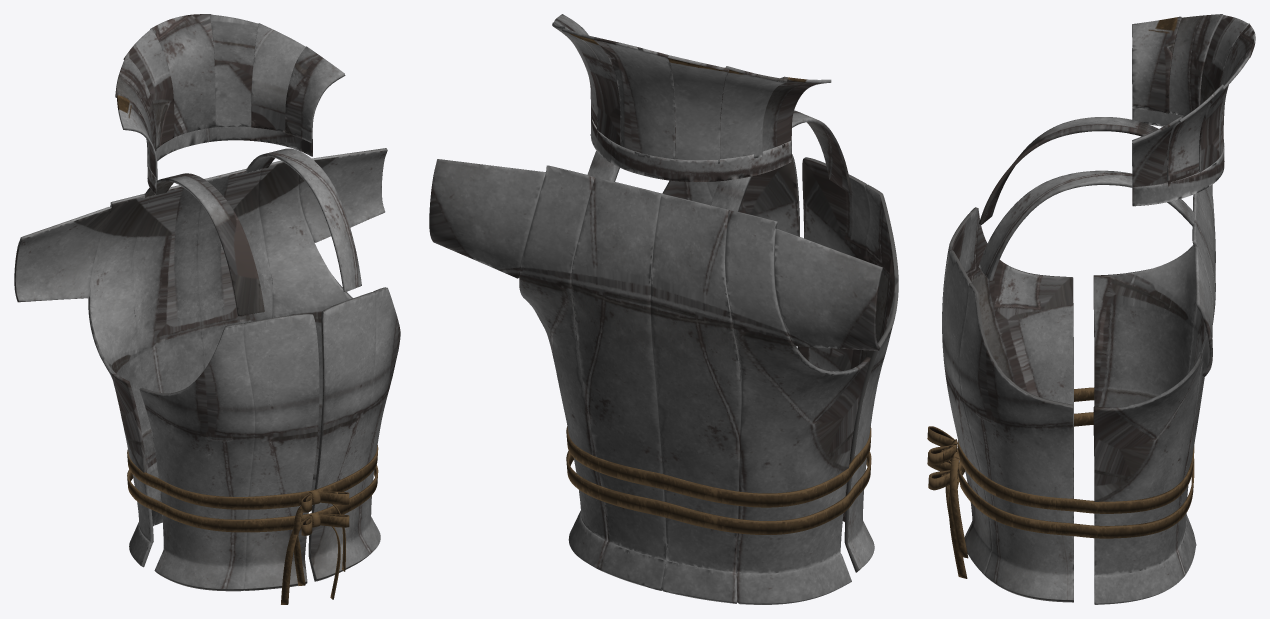
3 renders of one model, left to right at view 1: azimuth 30°, elevation 25°; view 2: azimuth 150°, elevation 25°; view 3: azimuth 270°, elevation 25°, orthographic. The views are drawn at different scales.
Parts seen in each view (by area): view 1: 24WA0015_high; view 2: 24WA0015_high; view 3: 24WA0015_high.
Boxes of the visible parts, <box> form: 24WA0015_high: <box>14,14,400,604</box>; 24WA0015_high: <box>429,14,898,604</box>; 24WA0015_high: <box>927,14,1255,604</box>.
Bounding box in the file's own units: 0.5393 × 0.6871 × 0.3844.
1 material, 1 textured.
